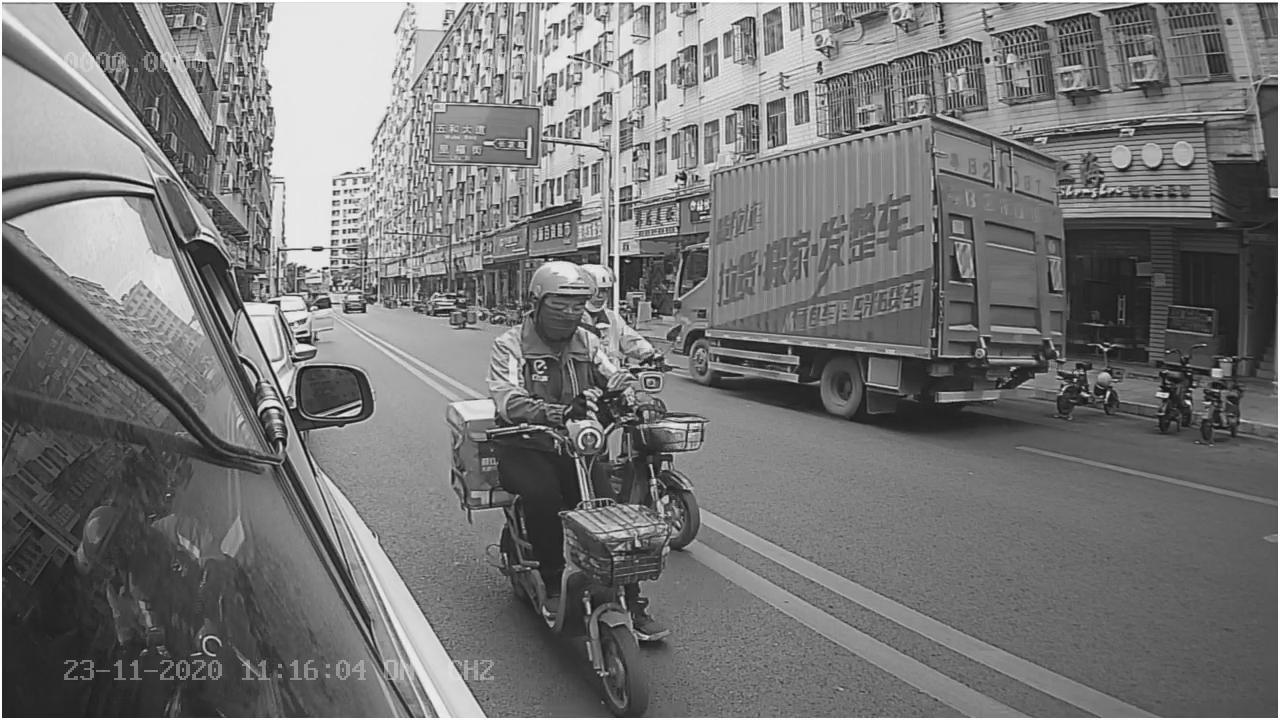person: (483, 254, 670, 404)
